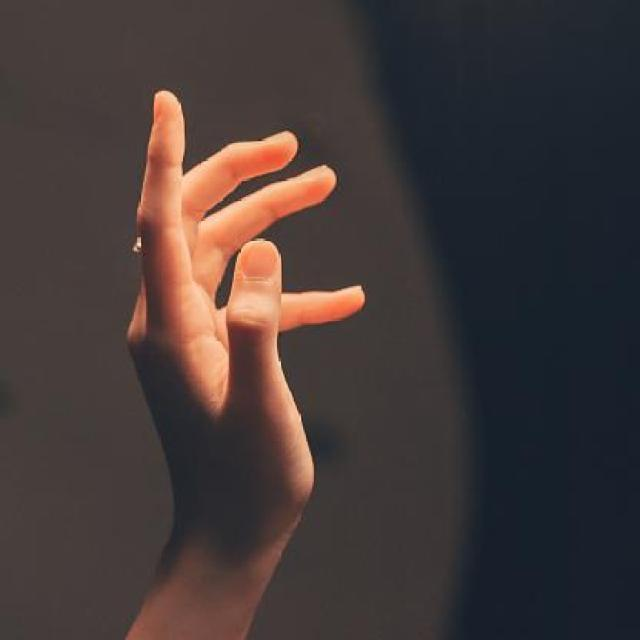no_apron: (105, 74, 358, 511)
